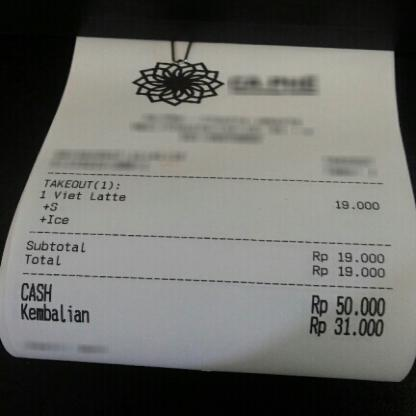receipts: (11, 40, 413, 382)
